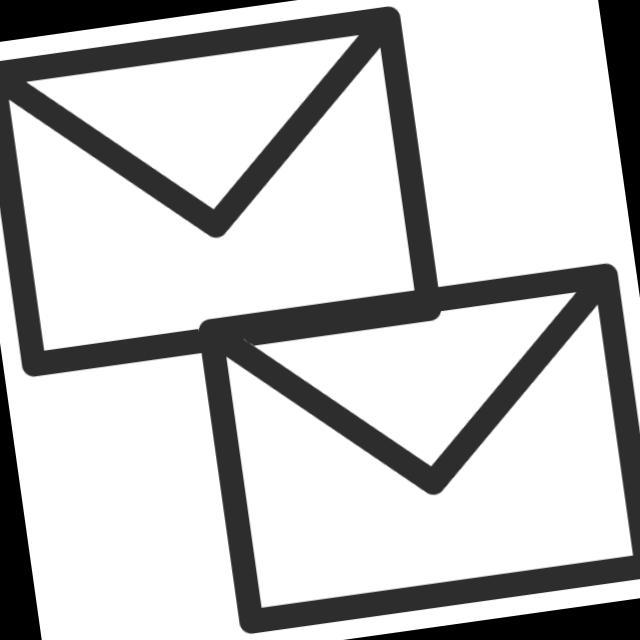letter: (1, 1, 460, 394), (190, 259, 640, 640)
